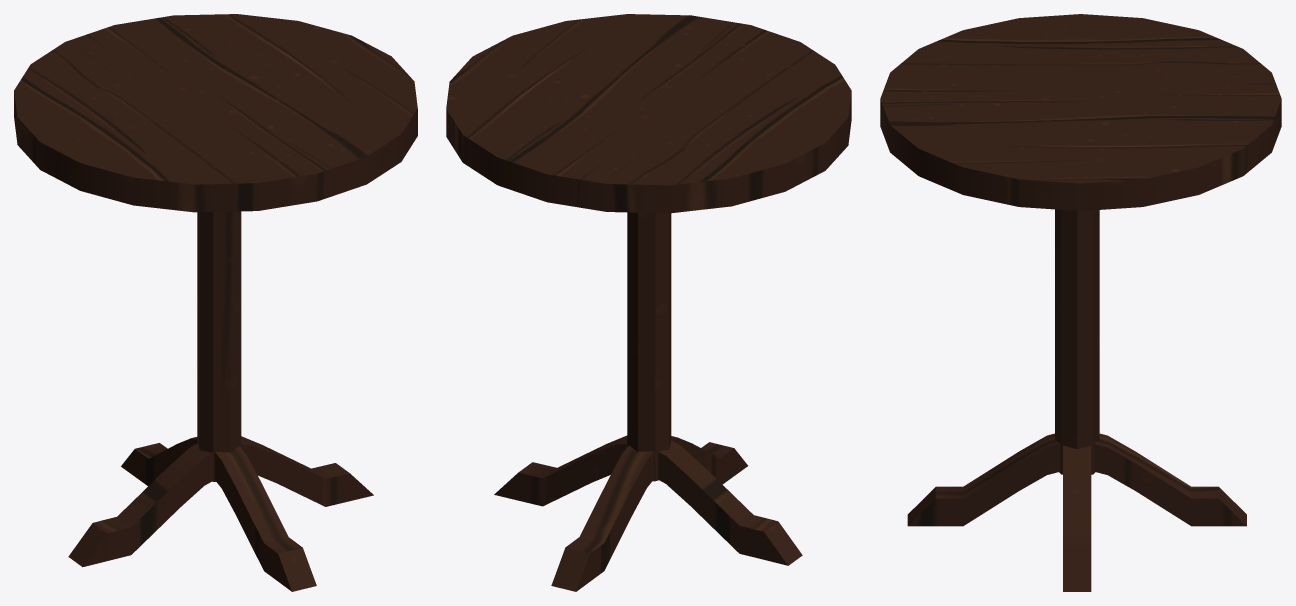
The model's file is bijzettafeltje.fbx.
3 views of the same model, side by side, from view 1: azimuth 30°, elevation 25°; view 2: azimuth 150°, elevation 25°; view 3: azimuth 270°, elevation 25° (orthographic).
Parts seen in each view (by area): view 1: pCylinder3; view 2: pCylinder3; view 3: pCylinder3.
Boxes of the visible parts, bbox=[...] form: pCylinder3: bbox=[14, 14, 417, 591]; pCylinder3: bbox=[446, 14, 851, 591]; pCylinder3: bbox=[880, 14, 1281, 591].
Bounding box in the file's own units: 3.05 × 3.53 × 3.05.
